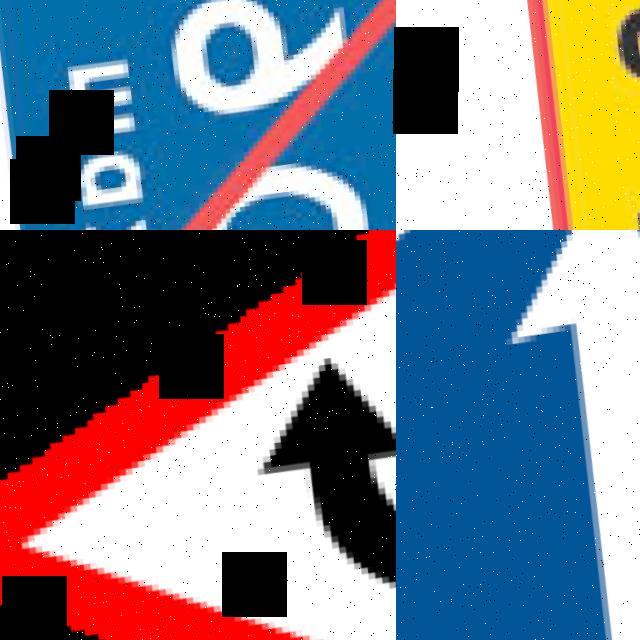103: (0, 0, 396, 230)
181: (475, 0, 640, 230)
Left curve: (0, 230, 396, 640)
Turn left: (396, 230, 640, 640)
